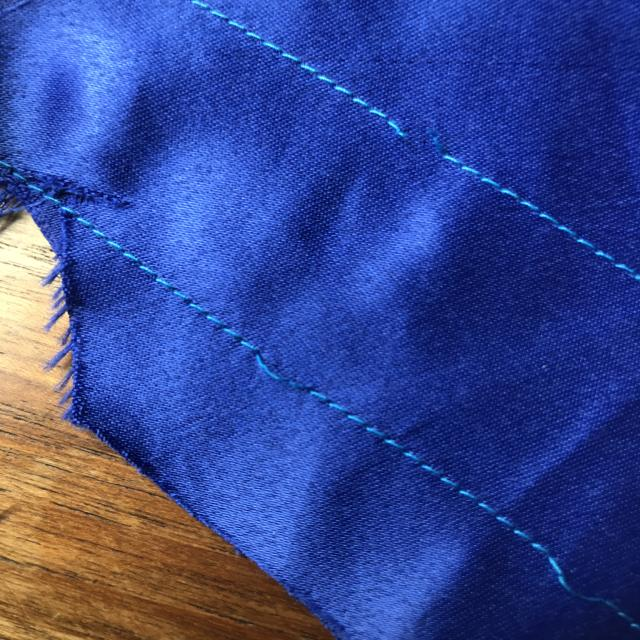broken: (374, 84, 490, 182)
